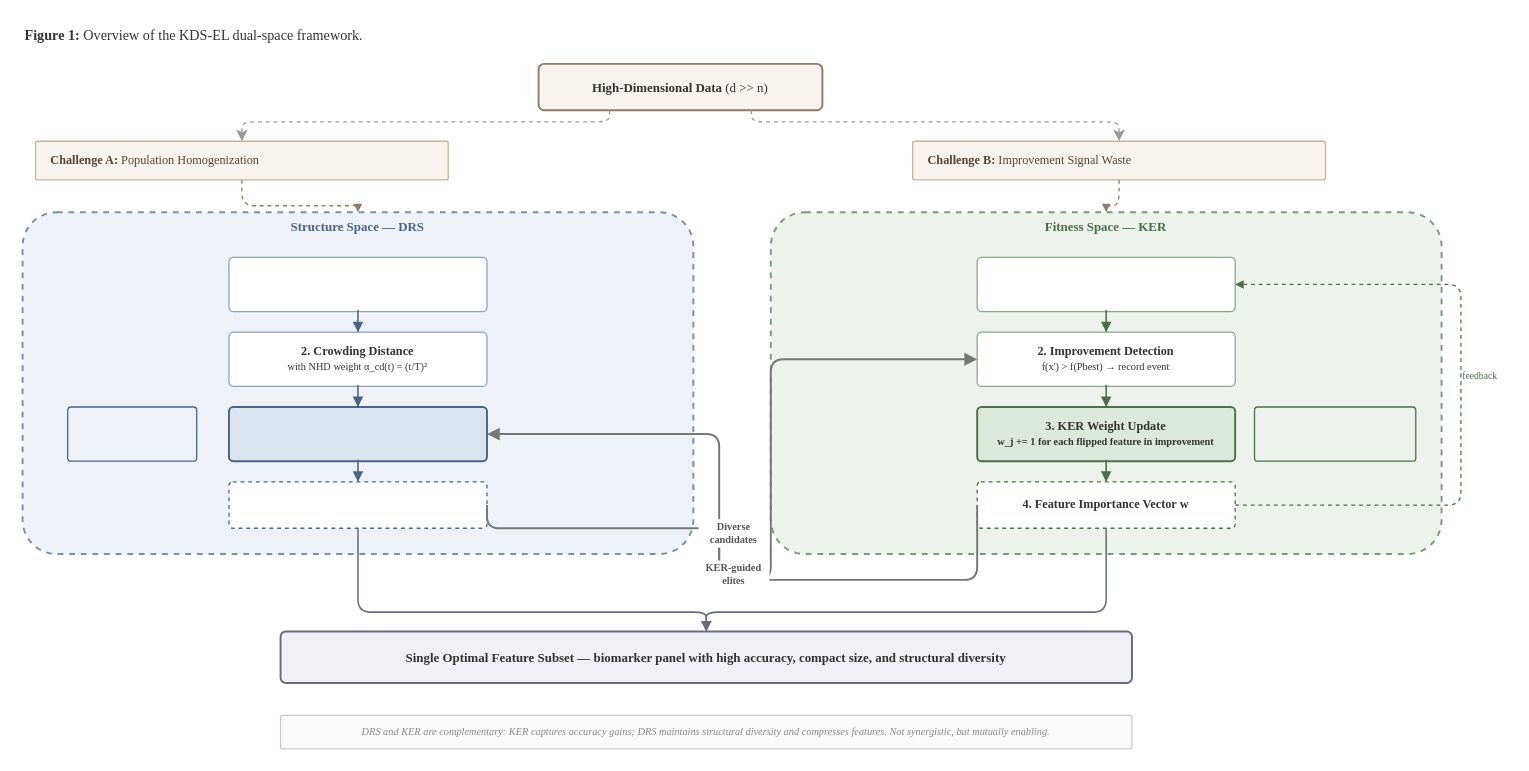
This 1529x771 diagram has some shape labels left out. The centre of each missing label's shape, as x and y in pixels:
"1. Fitness Evaluation Classification accuracy (KNN)" belongs at point 1105,284.
"1. NHD Matrix NHD(i,j) = Hamming(i,j) / d" belongs at point 357,284.
"3. DRS Pool Construction NHD as 1st-class selection objective" belongs at point 357,433.
"4. Diverse Candidate Pool" belongs at point 357,504.
"Prop. 1 E[NHD(pool)] > 0 (diversity lower bound)" belongs at point 131,433.
"Prop. 2 P(flip j) ≥ (1/N)(w_j/Σw)·p_mut Any subset reachable in finite steps" belongs at point 1334,433.
